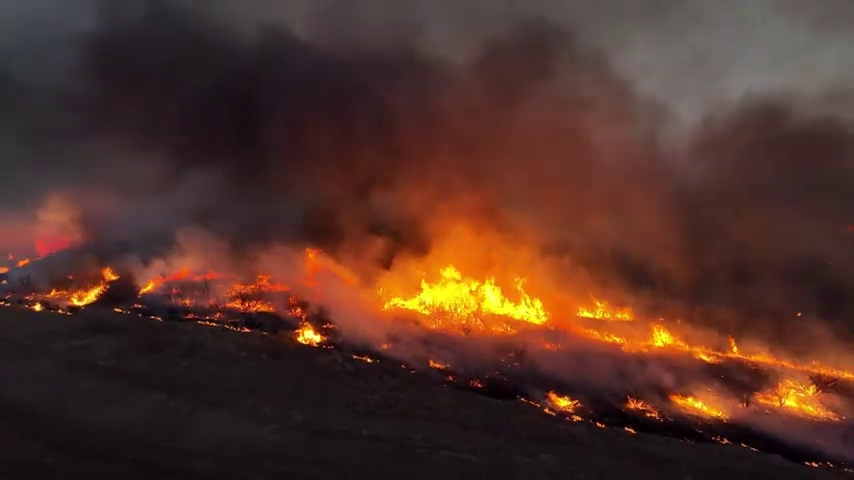forest_fire: (373, 266, 853, 462), (113, 267, 354, 347), (3, 266, 121, 312), (301, 249, 333, 288), (302, 288, 304, 290)
